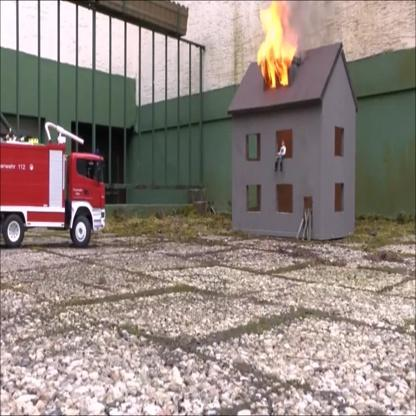Fire: (259, 0, 300, 88)
